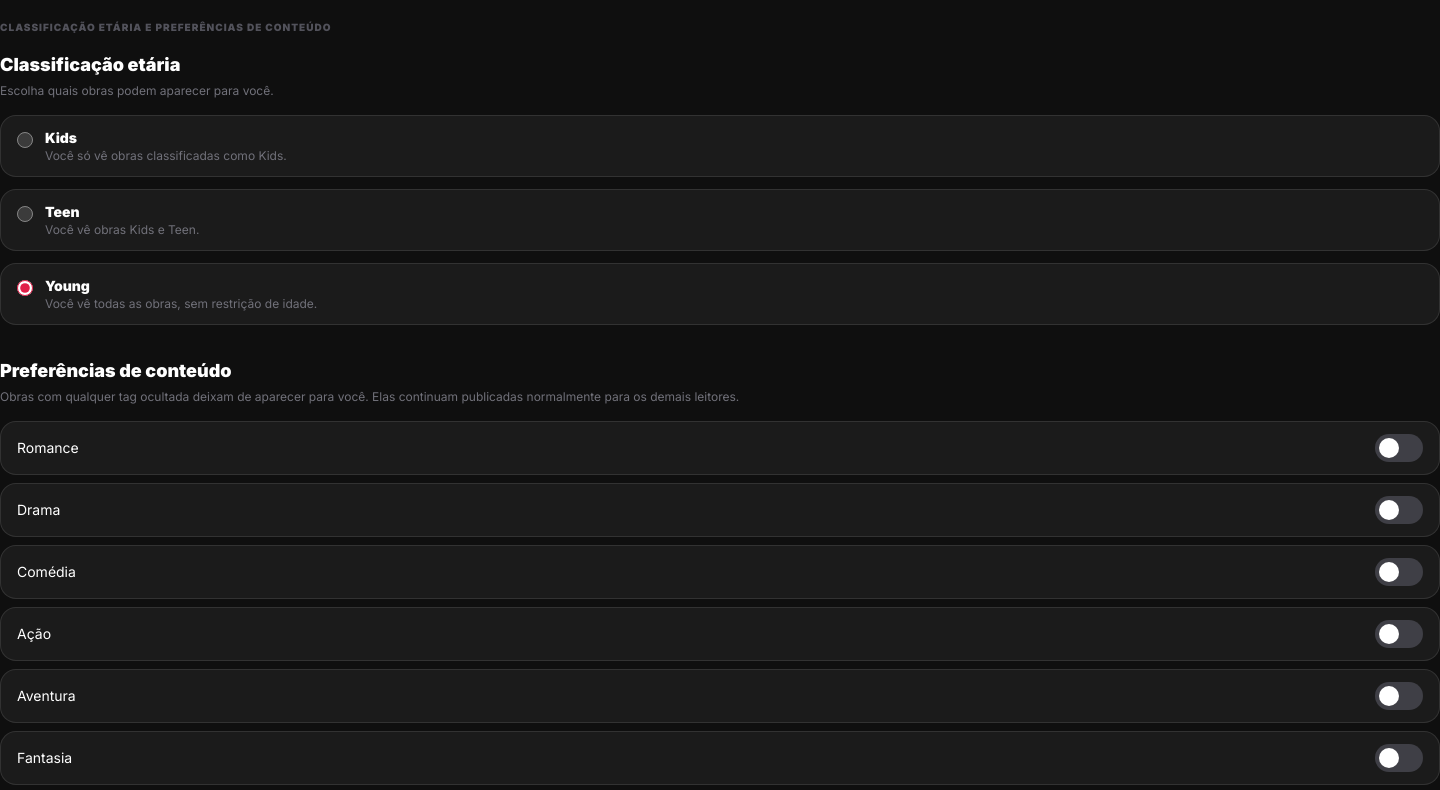
Test: ParentalSettings — salvar com PIN › 401 com tentativasRestantes = 0 — avisa que a PRÓXIMA tentativa bloqueia (não é o próprio bloqueio ainda)
Expected: the heading "Classificação etária e Preferências de conteúdo" is shown, [0,21,331,33]
Click the radio button labelled "Teen Você vê obras Kids e Teen." at (25, 214), box [17,206,33,222]
(page scrolled)
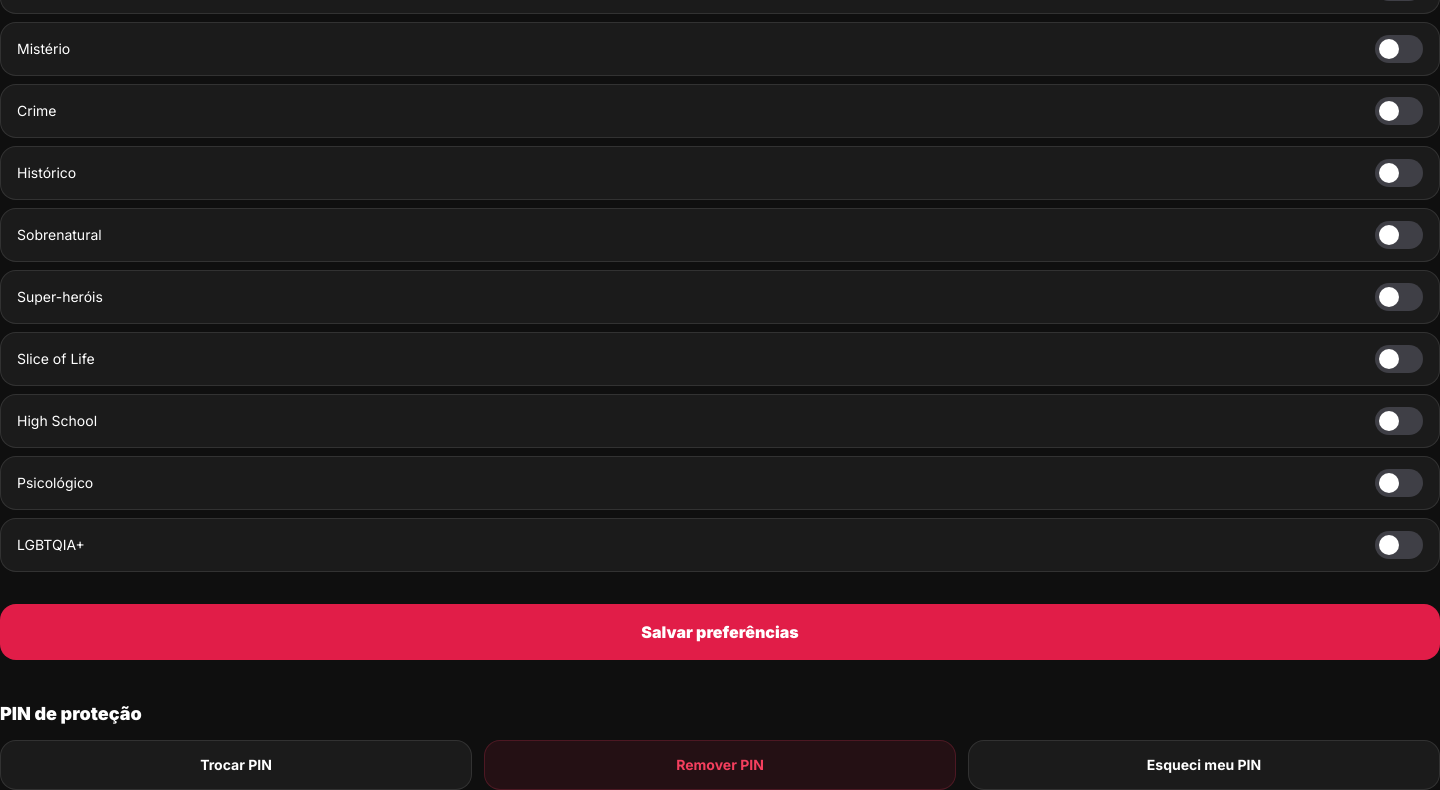
Click the button "Salvar preferências" at (720, 632), box [0,604,1439,660]
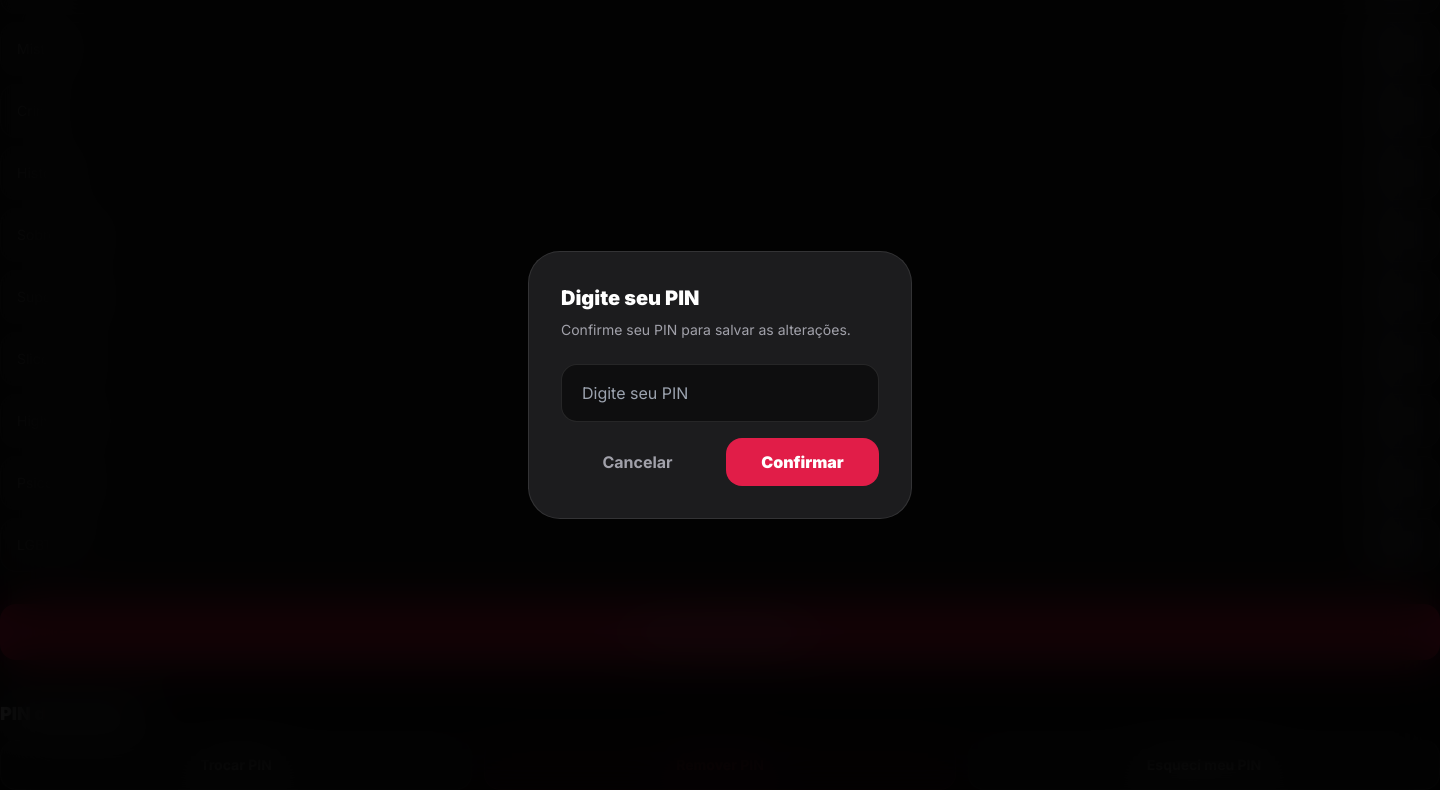
Type "0000" into the password field with test id "pin-gate-input" at (720, 393), box [561,364,879,422]
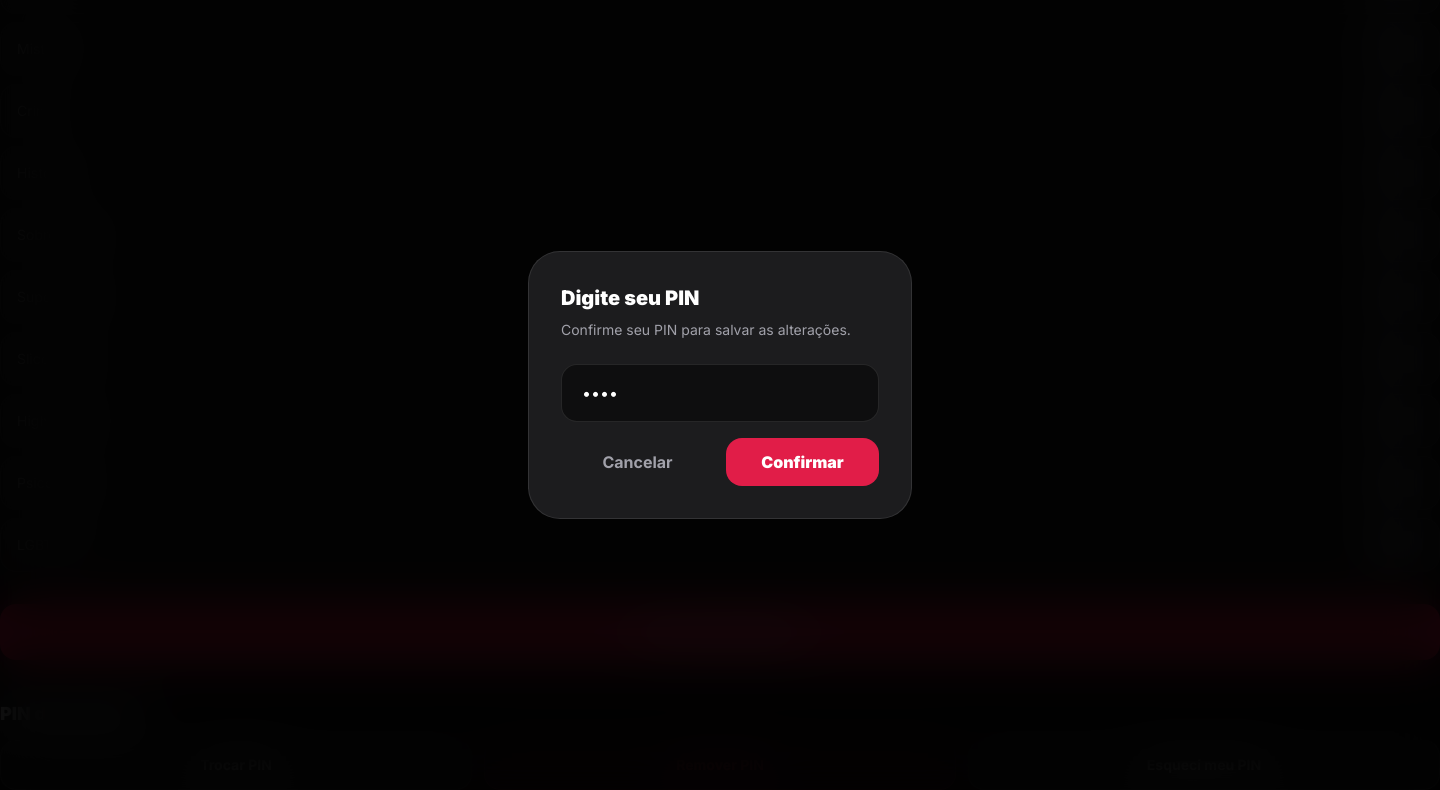
Click the button with test id "pin-gate-confirm" at (802, 462), box [726,438,879,486]
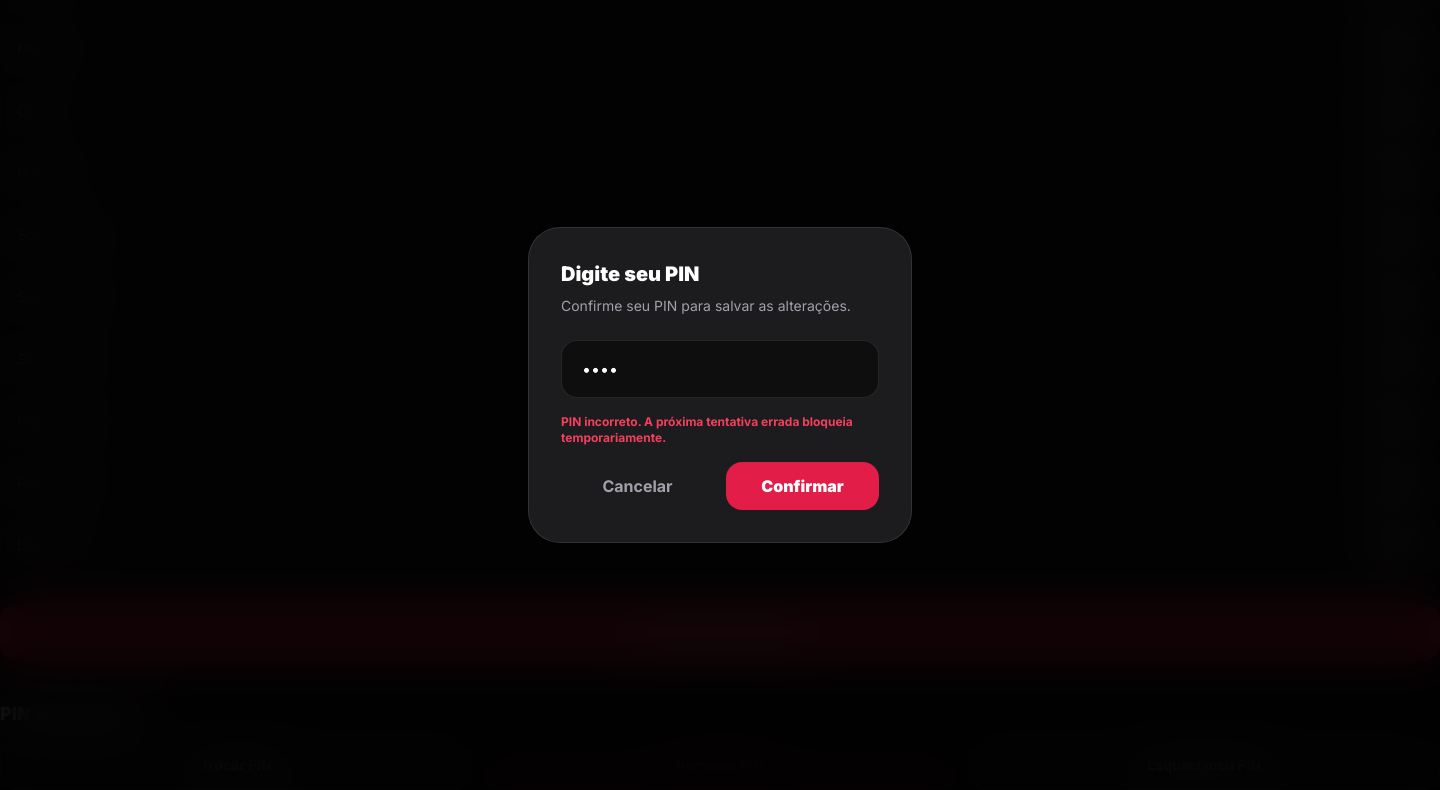
Now the text "próxima tentativa errada bloqueia temporariamente" is shown, box [561,414,853,445]
